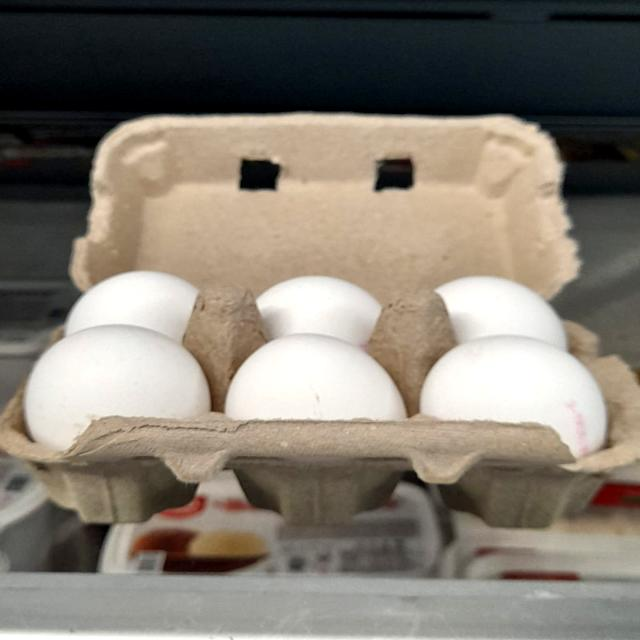egg: (409, 325, 611, 484), (220, 318, 405, 477), (19, 323, 201, 456)
